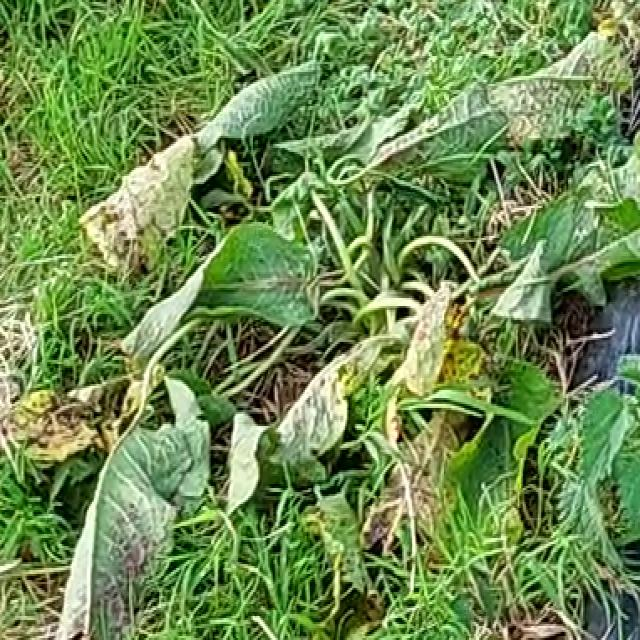organic waste: (60, 56, 610, 640)
